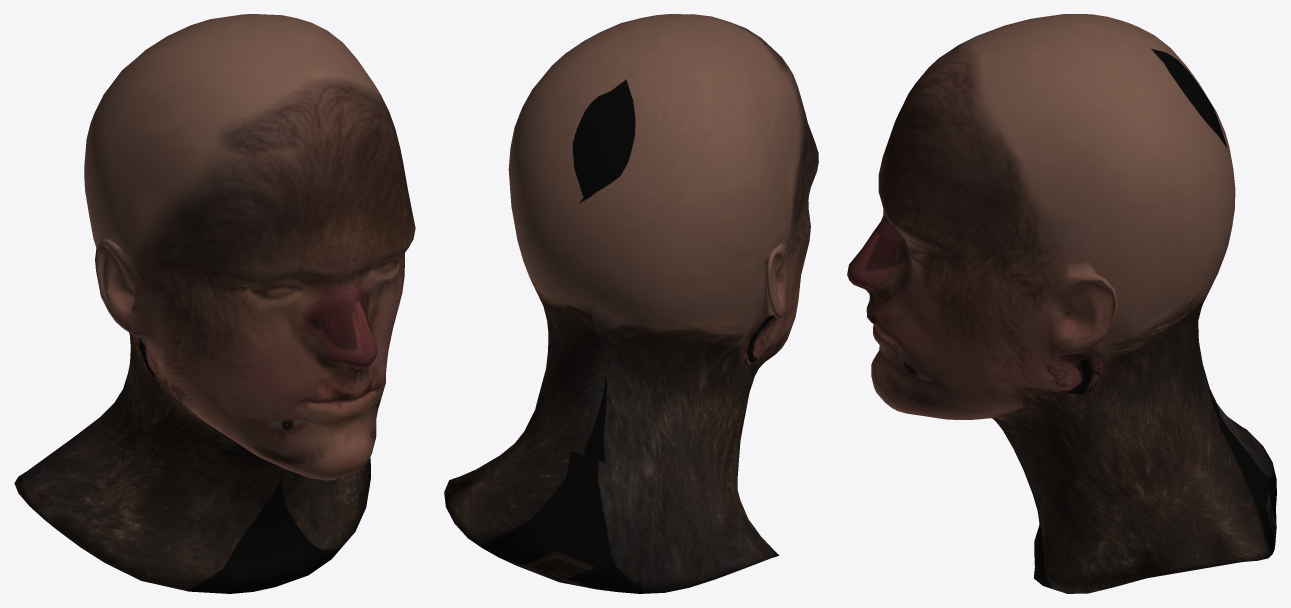
Rendered from kopflowpoly0.9.glb.
The picture shows the model from 3 angles, left to right: view 1: azimuth 30°, elevation 25°; view 2: azimuth 150°, elevation 25°; view 3: azimuth 270°, elevation 25°; orthographic projection. The views are drawn at different scales.
Visible parts, largest first — view 1: FBHead; view 2: FBHead; view 3: FBHead.
Boxes of the visible parts, left/top/right/bottom form: FBHead: left=14, top=14, right=415, bottom=593; FBHead: left=444, top=14, right=818, bottom=593; FBHead: left=847, top=14, right=1276, bottom=593.
Size of the model in its own units: 1.63 by 2.55 by 1.86.
1 material, 1 textured.
